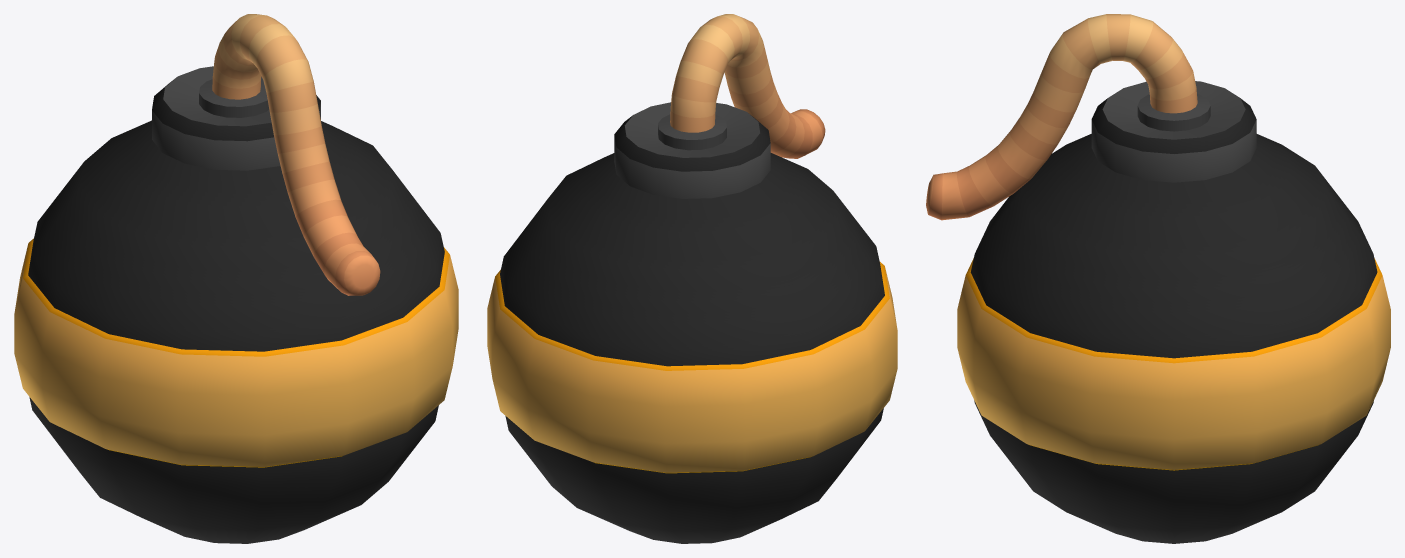
The model's file is Bomb_V1_00.fbx.
3 views of the same model, side by side, from view 1: azimuth 30°, elevation 25°; view 2: azimuth 150°, elevation 25°; view 3: azimuth 270°, elevation 25° (orthographic). The views are drawn at different scales.
Parts seen in each view (by area): view 1: Bomb_V1_00; view 2: Bomb_V1_00; view 3: Bomb_V1_00.
Boxes of the visible parts, box(x1,y1,x2,y2) form: Bomb_V1_00: box(14, 14, 458, 543); Bomb_V1_00: box(487, 14, 897, 543); Bomb_V1_00: box(926, 14, 1390, 543).
Bounding box in the file's own units: 30.89 × 39.91 × 33.12.
